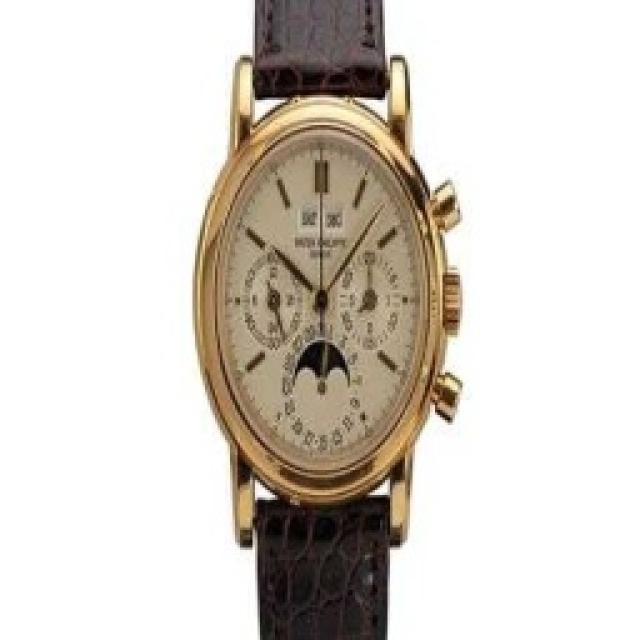saat: (160, 0, 478, 640)
